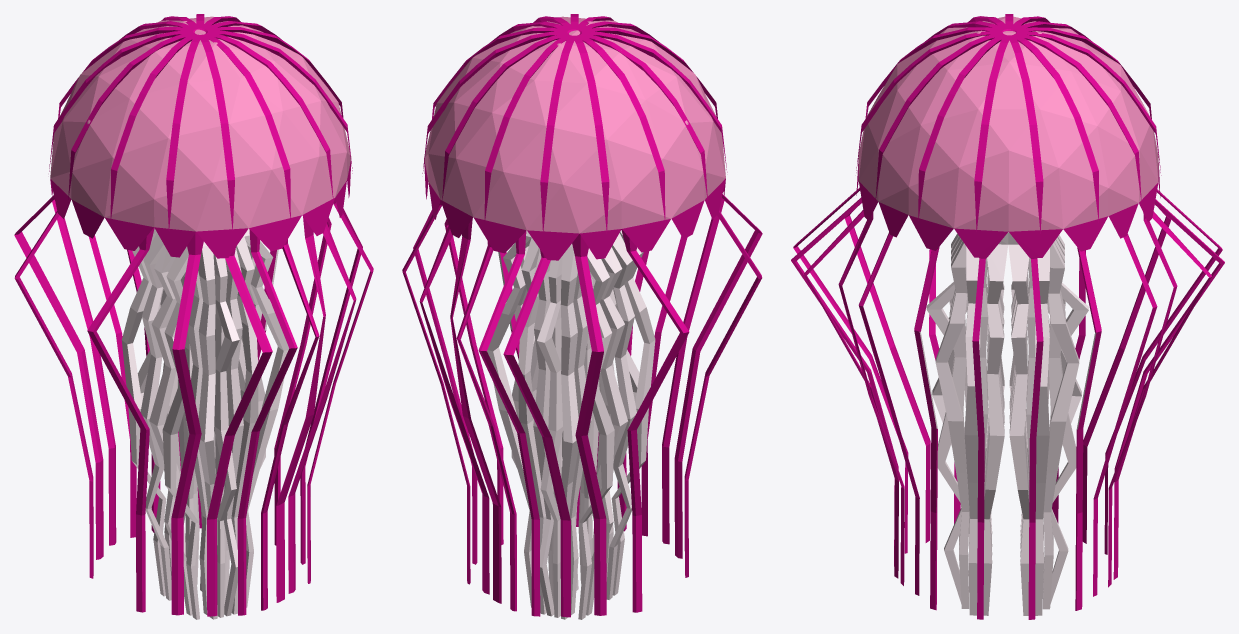
Rendered from jellyfish-model.glb.
3 views of the same model, side by side, from view 1: azimuth 30°, elevation 25°; view 2: azimuth 150°, elevation 25°; view 3: azimuth 270°, elevation 25° (orthographic).
Visible parts, largest first — view 1: node-0; view 2: node-0; view 3: node-0.
Boxes of the visible parts, x1,y1,x2,y2 form: node-0: (14,14,373,619); node-0: (402,14,762,619); node-0: (791,14,1224,619).
Bounding box in the file's own units: 0.6704 × 1.23 × 0.8503.
